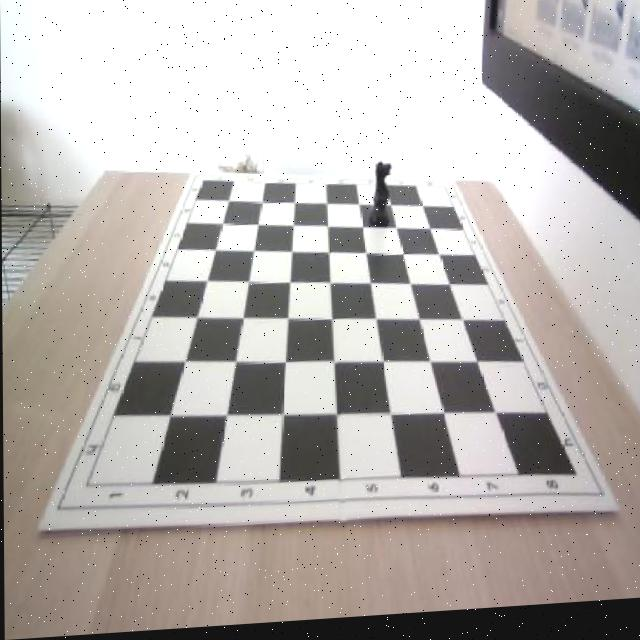black-king: (369, 166, 394, 235)
